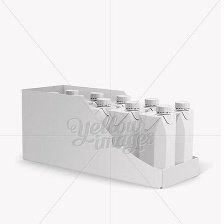carton: (137, 103, 175, 175), (111, 99, 143, 152), (172, 100, 196, 164), (88, 95, 115, 137)
